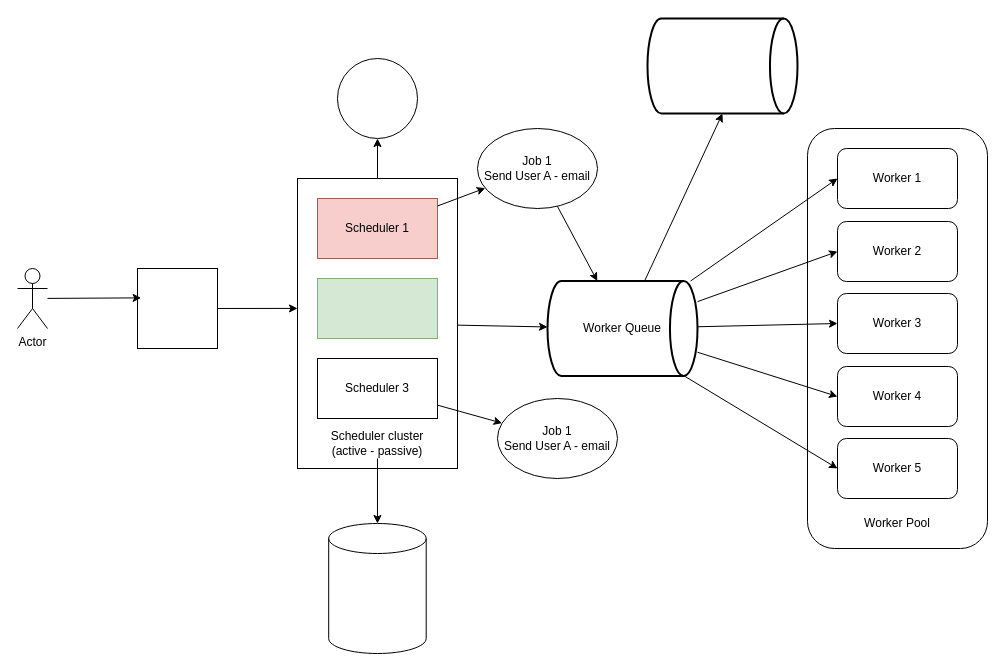
The diagram is 1005 pixels wide and 671 high, and some of its shapes have lost their labels. Each missing label, with the centre of its shape:
"Database Cluster (HA)" belongs at point (377, 588).
"Dead Letter Queue" belongs at point (722, 65).
"Leader Election Mechanism" belongs at point (377, 98).
"Load Balancer" belongs at point (177, 308).
"Scheduler 2 (Leader)" belongs at point (377, 308).
